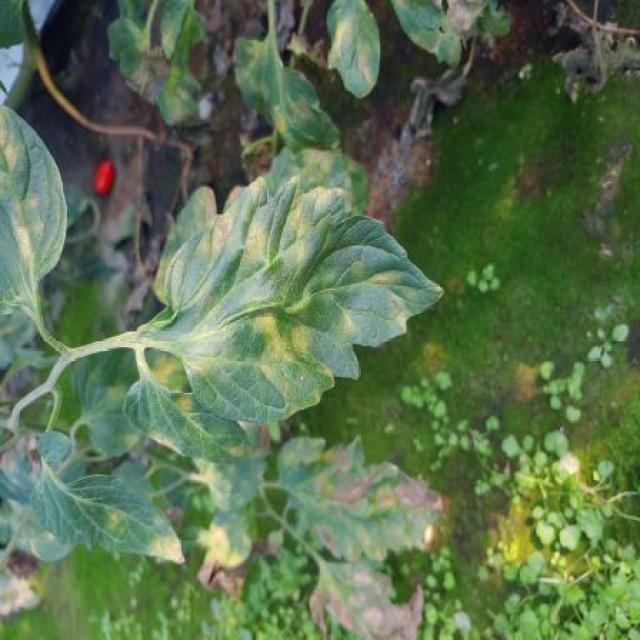Leaf Mold: (166, 176, 444, 424), (278, 433, 439, 568), (32, 425, 185, 566), (0, 98, 69, 316), (230, 36, 341, 153), (123, 376, 253, 464), (327, 0, 382, 100)
